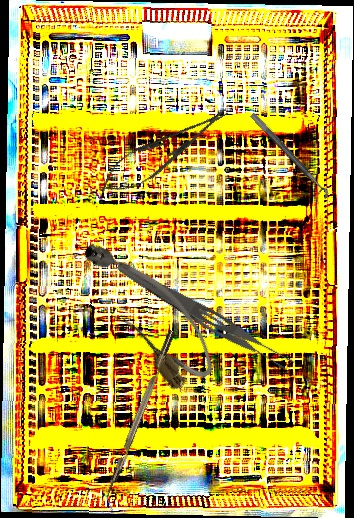Cannula: (72, 221, 227, 398)
Chopper: (98, 329, 184, 512)
Dressing Forceps: (111, 259, 298, 376)
Fixation Ring: (242, 111, 332, 206)
Needle Holder: (91, 96, 238, 206)
